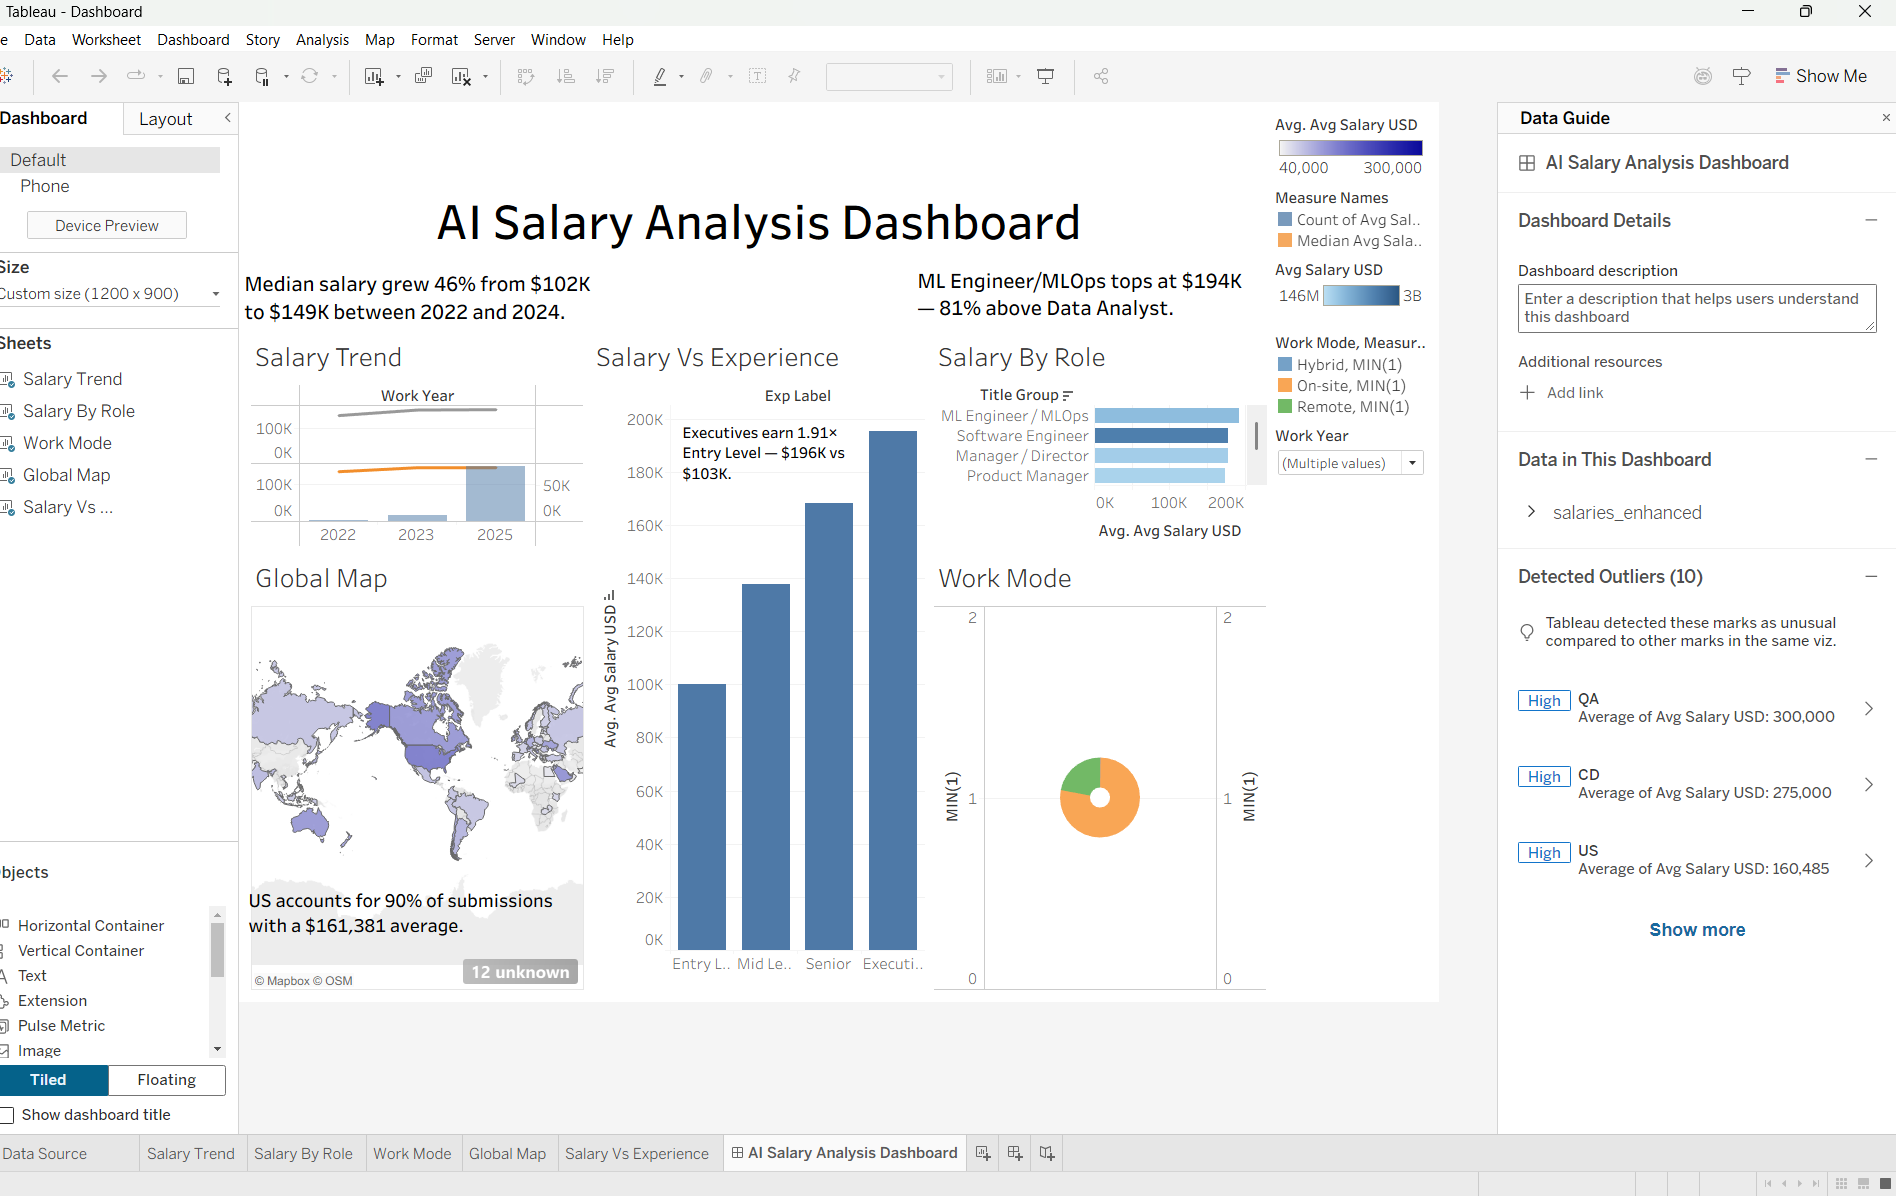

Layout of this report page (visuals, bound fields, positions):
{"tool":"tableau","page":{"name":"AI Salary Analysis Dashboard","canvas":[1200,900],"ordinal":0},"visuals":[{"type":"text","box":[0,0,1200,72]},{"type":"text","box":[0,72,960,31.5]},{"type":"filter","title":"Salary Trend","param":"[federated.05inboi0wzrr0v142b3wi0dmgvdt].[none:work_year:ok]","box":[960,72,240,31.5]},{"type":"text","box":[3,108,234,72]},{"type":"text","box":[243,108,234,72]},{"type":"text","box":[483,108,234,72]},{"type":"text","box":[723,108,234,72]},{"type":"text","box":[963,108,234,72]},{"type":"text","box":[3,180,234,31.5]},{"type":"text","box":[243,180,234,31.5]},{"type":"text","box":[483,180,234,31.5]},{"type":"text","box":[723,180,234,31.5]},{"type":"text","box":[963,180,234,31.5]},{"type":"text","box":[0,211.5,1200,22.5]},{"type":"worksheet","title":"Salary Trend","mark":"Line","rows":["Calculation_2517673566556160","Calculation_2517673566556160","Calculation_2517673566556160"],"cols":["work_year"],"box":[3,234,594,274.5]},{"type":"worksheet","title":"Salary By Role","mark":"Automatic","rows":["title_group"],"cols":["Calculation_2517673566556160"],"box":[603,234,594,274.5]},{"type":"text","box":[0,508.5,1200,22.5]},{"type":"worksheet","title":"Work Mode","mark":"Pie","rows":["Calculation_2517673571315716","Calculation_2517673571373062"],"box":[3,531,294,288]},{"type":"worksheet","title":"Salary Vs Experience","mark":"Automatic","rows":["Calculation_2517673566556160"],"cols":["exp_label"],"box":[300,531,294,288]},{"type":"worksheet","title":"Global Map","mark":"Multipolygon","box":[603,531,594,288]},{"type":"text","box":[3,823.5,594,40.5]},{"type":"text","box":[603,823.5,594,40.5]},{"type":"text","box":[0,864,1200,36]}]}

Visuals, with their boxes on the page's 1200x900 design canvas (x1, y1, x2, y2). These are canvas units, not pixel positions in the 1896x1196 screenshot, which may show the page scaled, cropped or inside an application window:
text: 0,0,1200,72
text: 0,72,960,104
"Salary Trend" filter: 960,72,1200,104
text: 3,108,237,180
text: 243,108,477,180
text: 483,108,717,180
text: 723,108,957,180
text: 963,108,1197,180
text: 3,180,237,212
text: 243,180,477,212
text: 483,180,717,212
text: 723,180,957,212
text: 963,180,1197,212
text: 0,212,1200,234
"Salary Trend" worksheet (Line marks): 3,234,597,508
"Salary By Role" worksheet: 603,234,1197,508
text: 0,508,1200,531
"Work Mode" worksheet (Pie marks): 3,531,297,819
"Salary Vs Experience" worksheet: 300,531,594,819
"Global Map" worksheet (Multipolygon marks): 603,531,1197,819
text: 3,824,597,864
text: 603,824,1197,864
text: 0,864,1200,900
